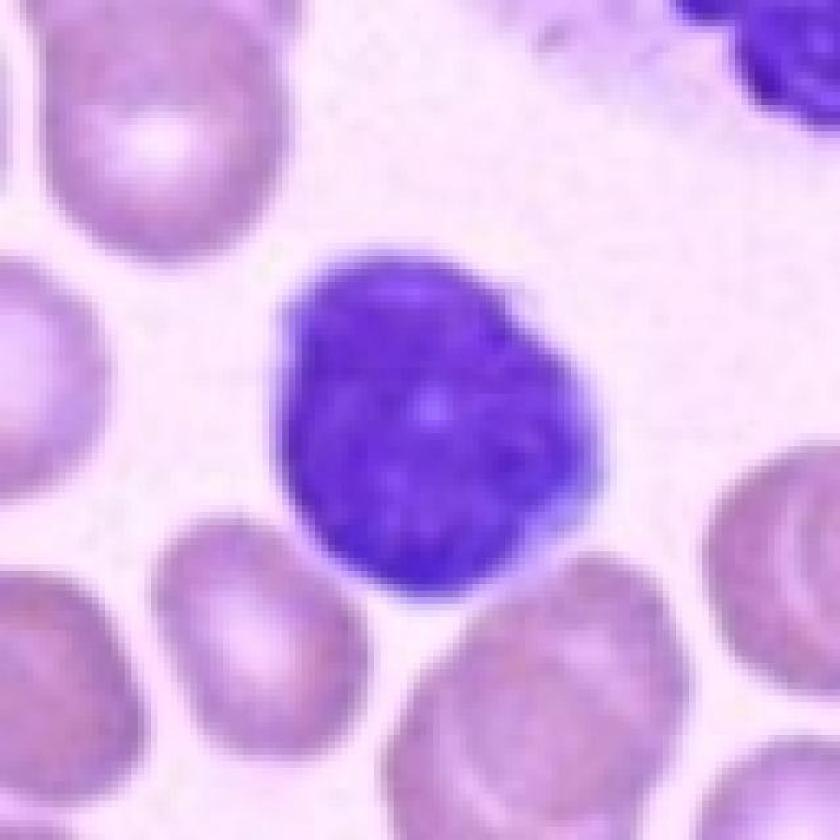lymphocyte: (272, 232, 616, 610)
